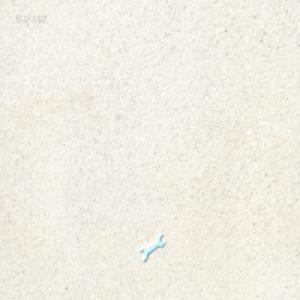Wrench: (140, 234, 165, 262)
